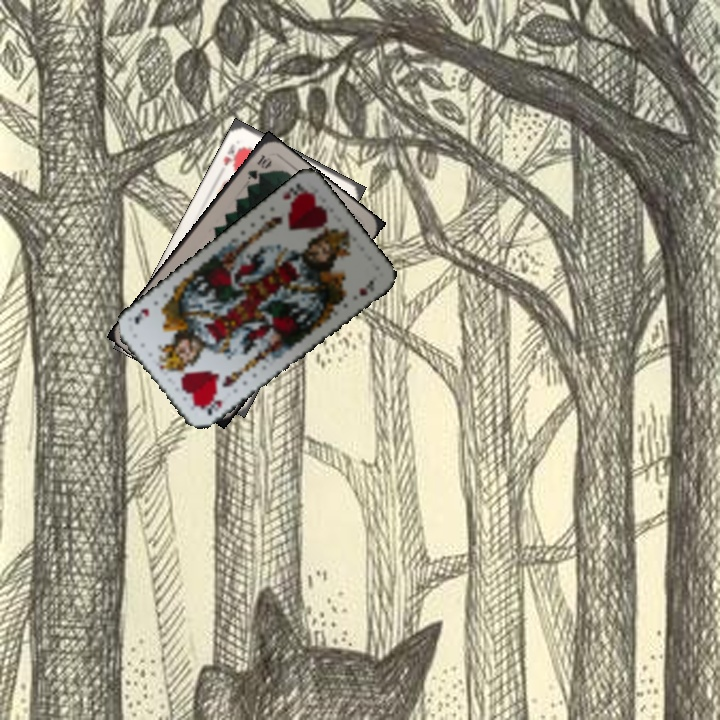G10: (243, 150, 274, 182)
HK: (278, 178, 308, 208), (219, 139, 246, 169), (203, 395, 225, 419)
